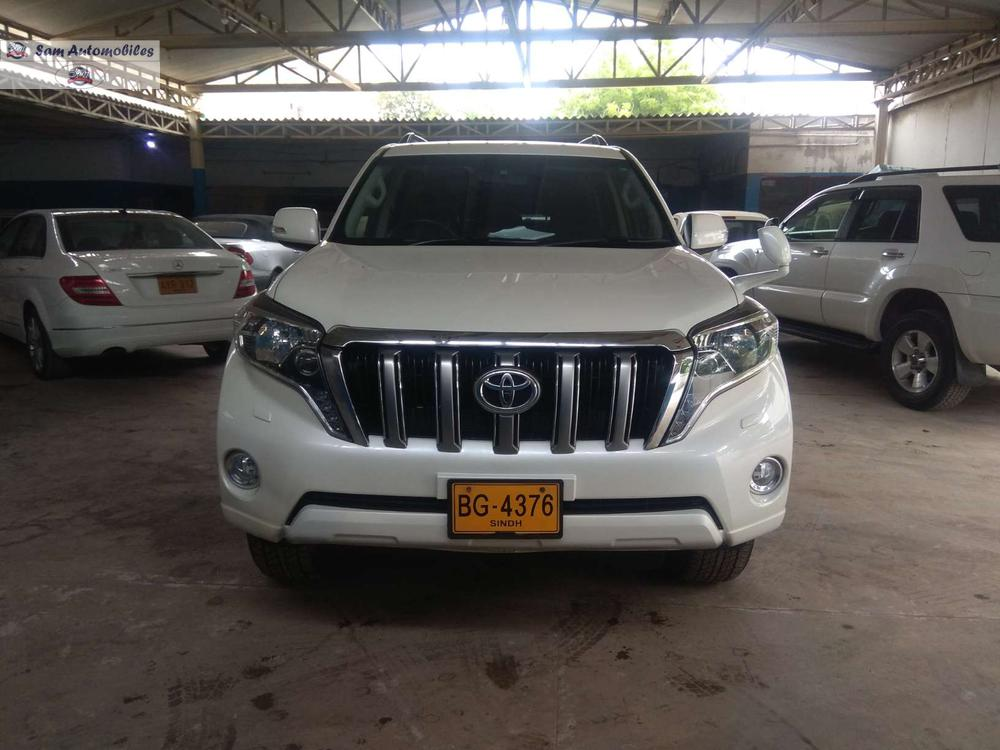license plate: (449, 480, 563, 535)
